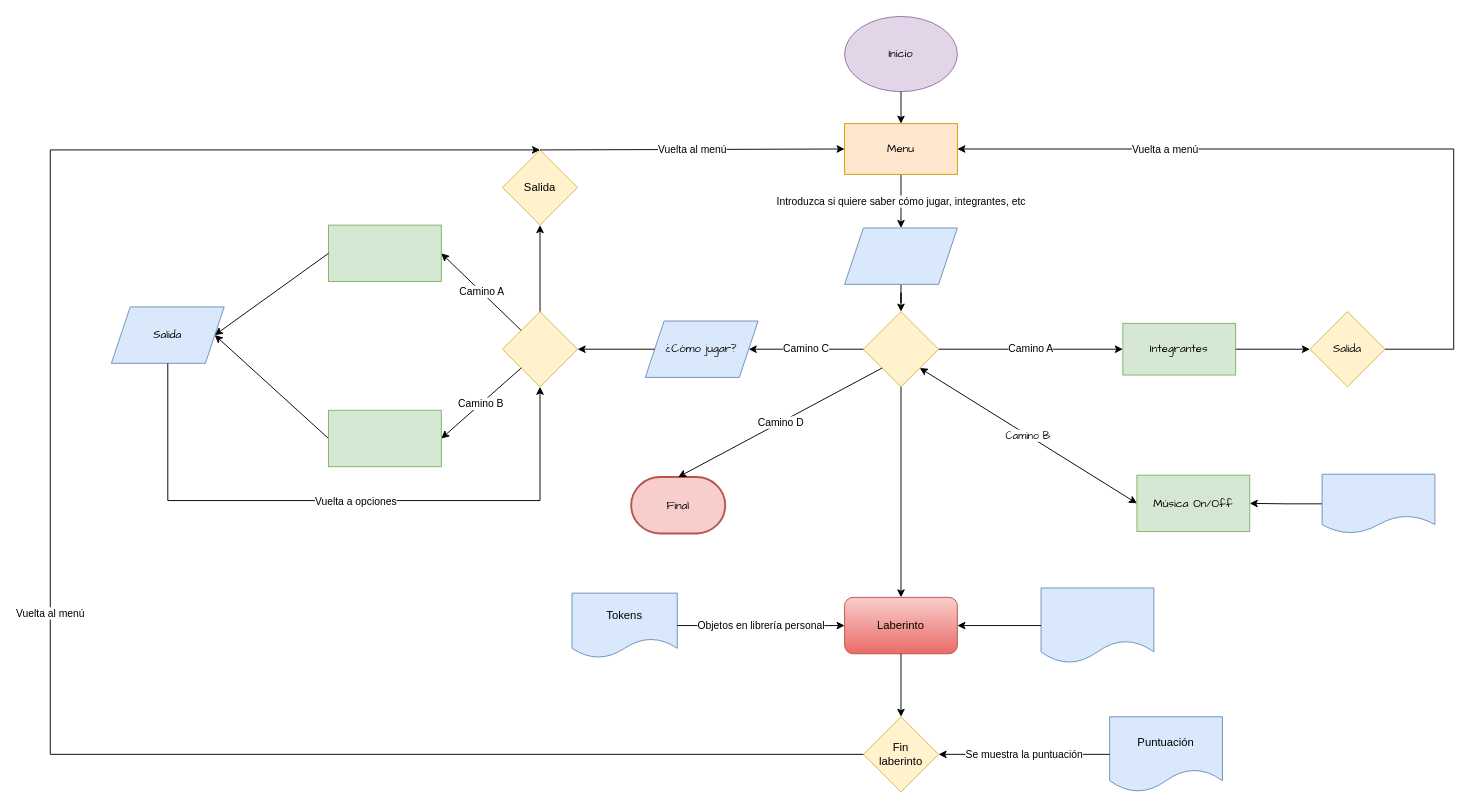
The diagram is 1478 pixels wide and 808 high, and some of its shapes have lost their labels. The shapes that lost their labels are listed below. From the top down, each one's centre as x and y in pixels, then its label:
At (x=384, y=253): "Tutorial(Explicación)".
At (x=900, y=255): "Entrada inicial".
At (x=539, y=349): "Opciones".
At (x=900, y=349): "Camino".
At (x=384, y=438): "Controles".
At (x=1378, y=503): "Música menú".
At (x=1097, y=625): "Música laberinto".
